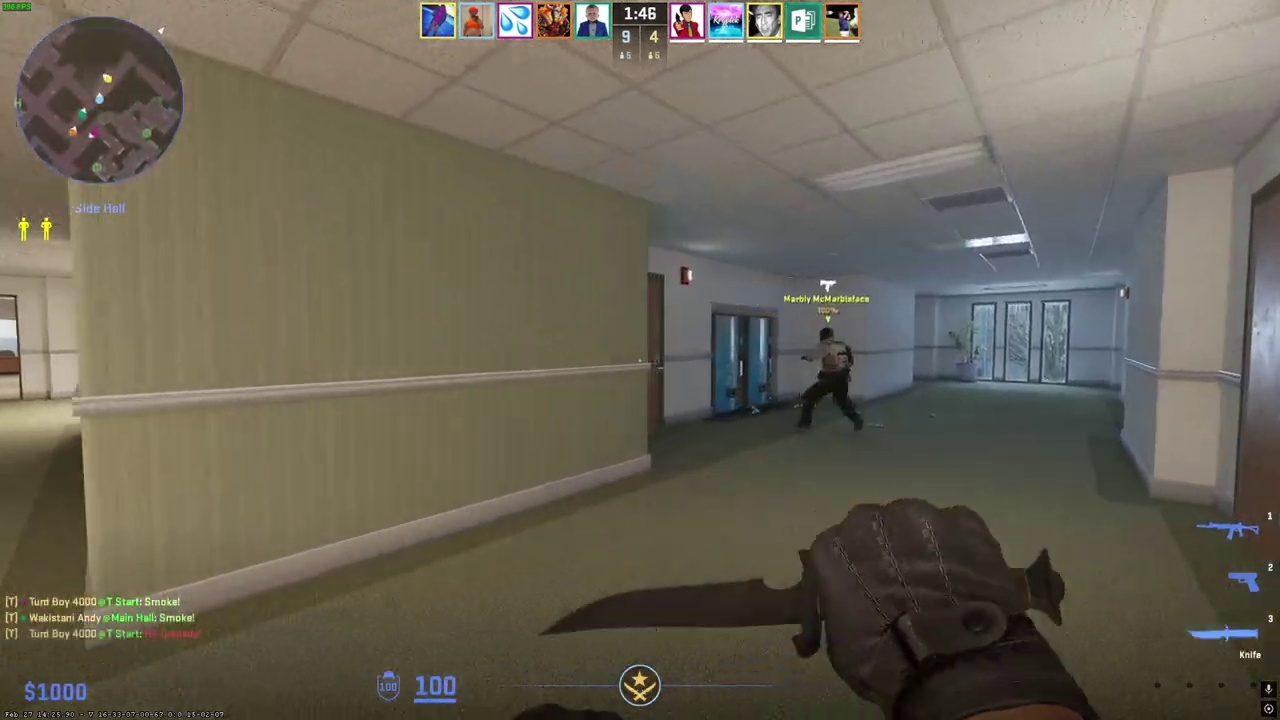Terrorist: (797, 326, 863, 434)
